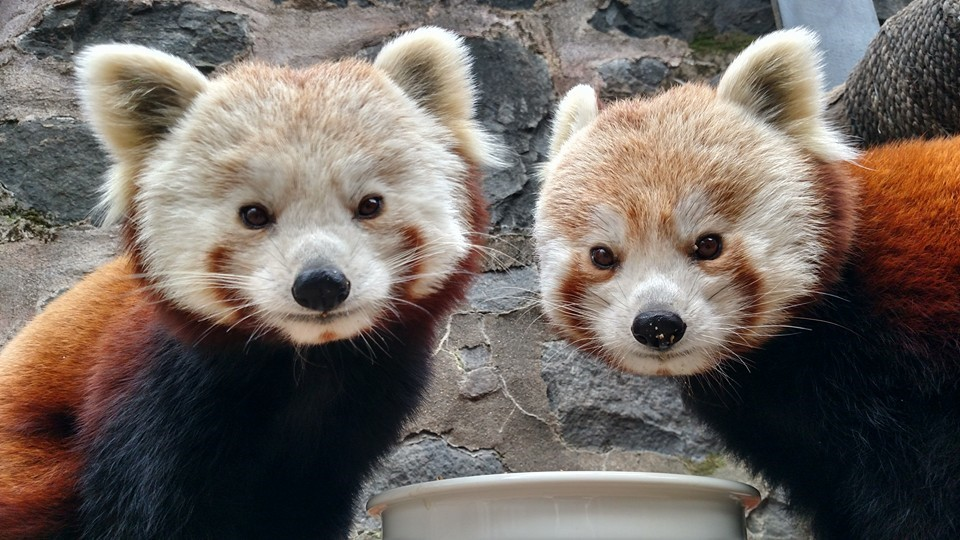red_panda: (1, 22, 486, 540), (521, 46, 960, 537)
